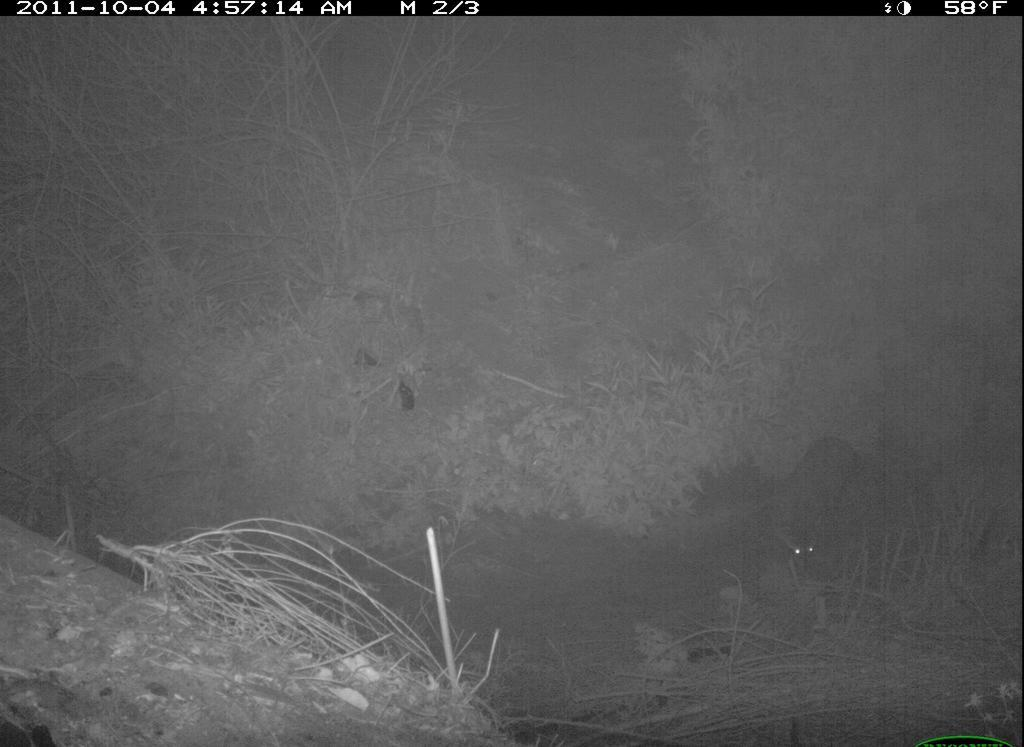raccoon: (762, 422, 873, 589)
